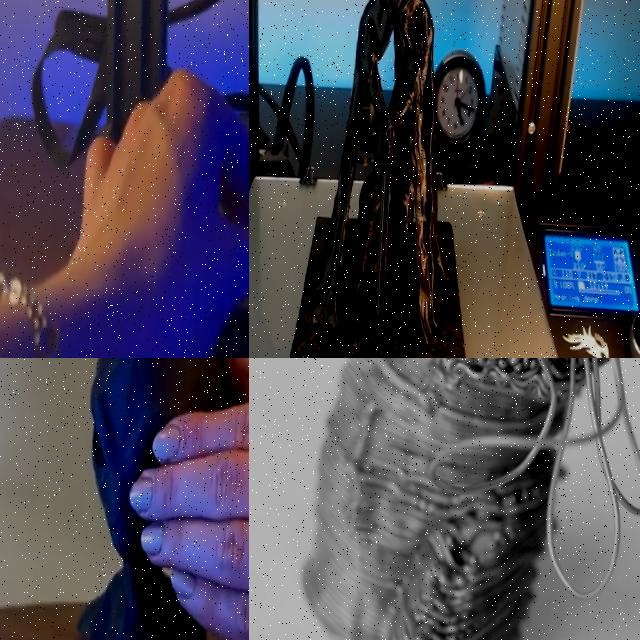spaghetti: (483, 358, 640, 601)
